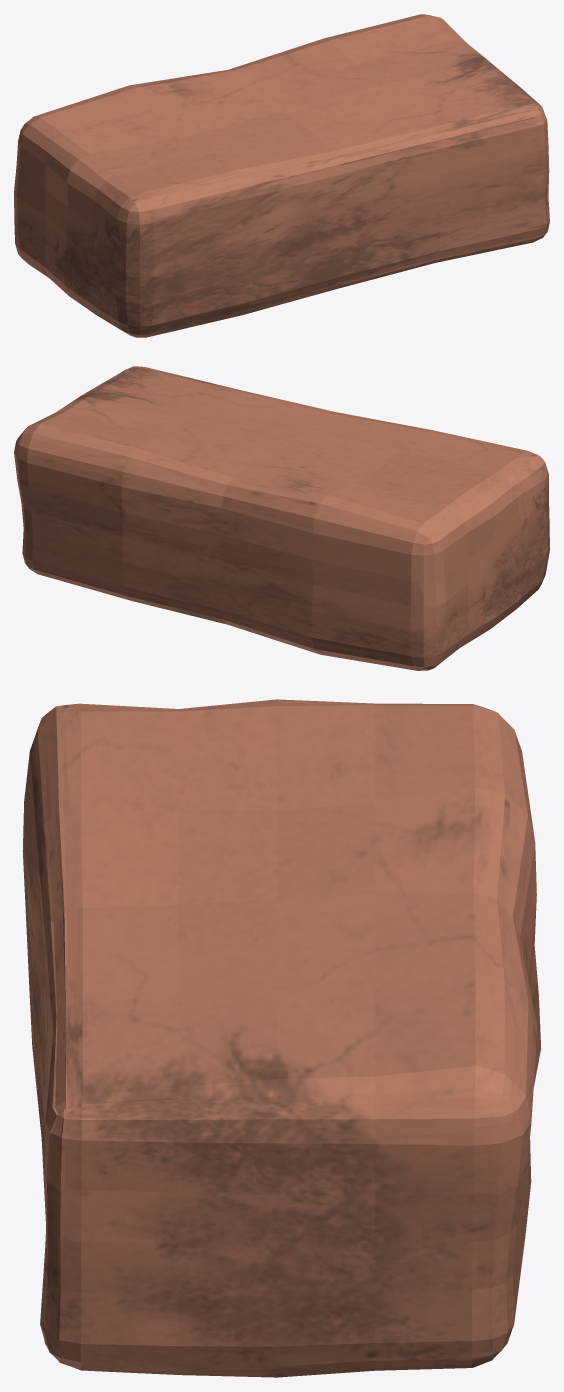
The model's file is debris_brick.glb.
The picture shows the model from 3 angles, top to bottom: view 1: azimuth 30°, elevation 25°; view 2: azimuth 150°, elevation 25°; view 3: azimuth 270°, elevation 25°; orthographic projection. The views are drawn at different scales.
Visible parts, largest first — view 1: Debris.002; view 2: Debris.002; view 3: Debris.002.
Part boxes in pixels (<box>): Debris.002: <box>14,14,549,337</box>; Debris.002: <box>14,366,549,670</box>; Debris.002: <box>22,699,541,1377</box>.
Bounding box in the file's own units: 0.2338 × 0.0824 × 0.1221.
Materials: 1 (1 with a texture image).
